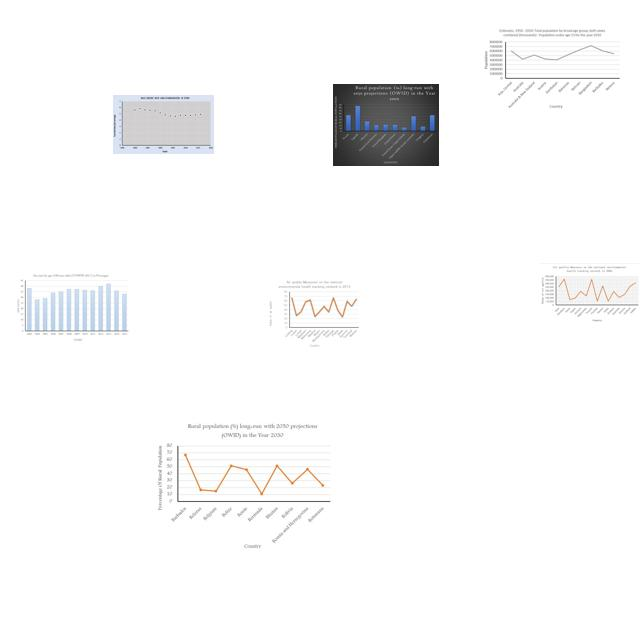Graph: (155, 420, 333, 550), (482, 26, 622, 110), (333, 84, 439, 166), (15, 273, 132, 343), (266, 279, 363, 348), (539, 263, 639, 324), (113, 95, 214, 154)
